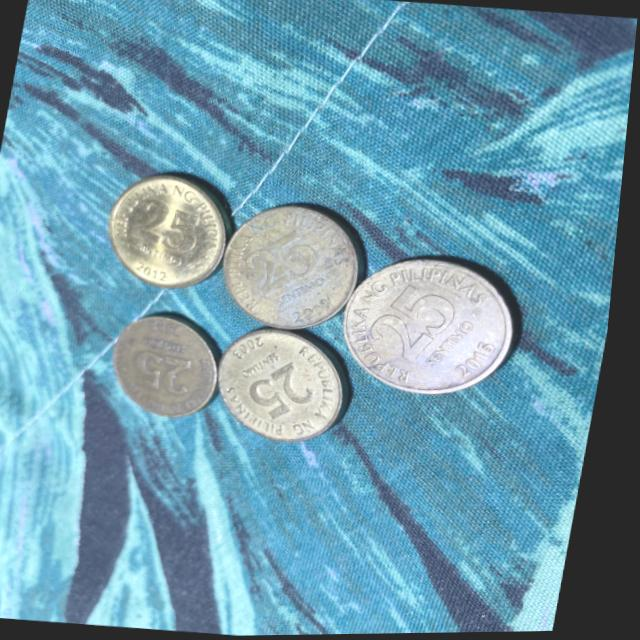25Cent_Old_Front: (369, 287, 464, 364), (242, 225, 327, 297), (252, 360, 327, 421), (131, 199, 207, 255), (132, 349, 198, 395)
